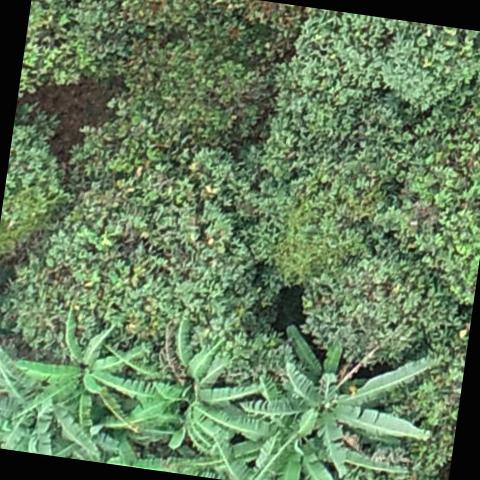Banana-plant: (233, 317, 450, 480), (96, 298, 282, 462), (8, 298, 170, 452), (222, 398, 415, 480), (0, 335, 111, 462)
